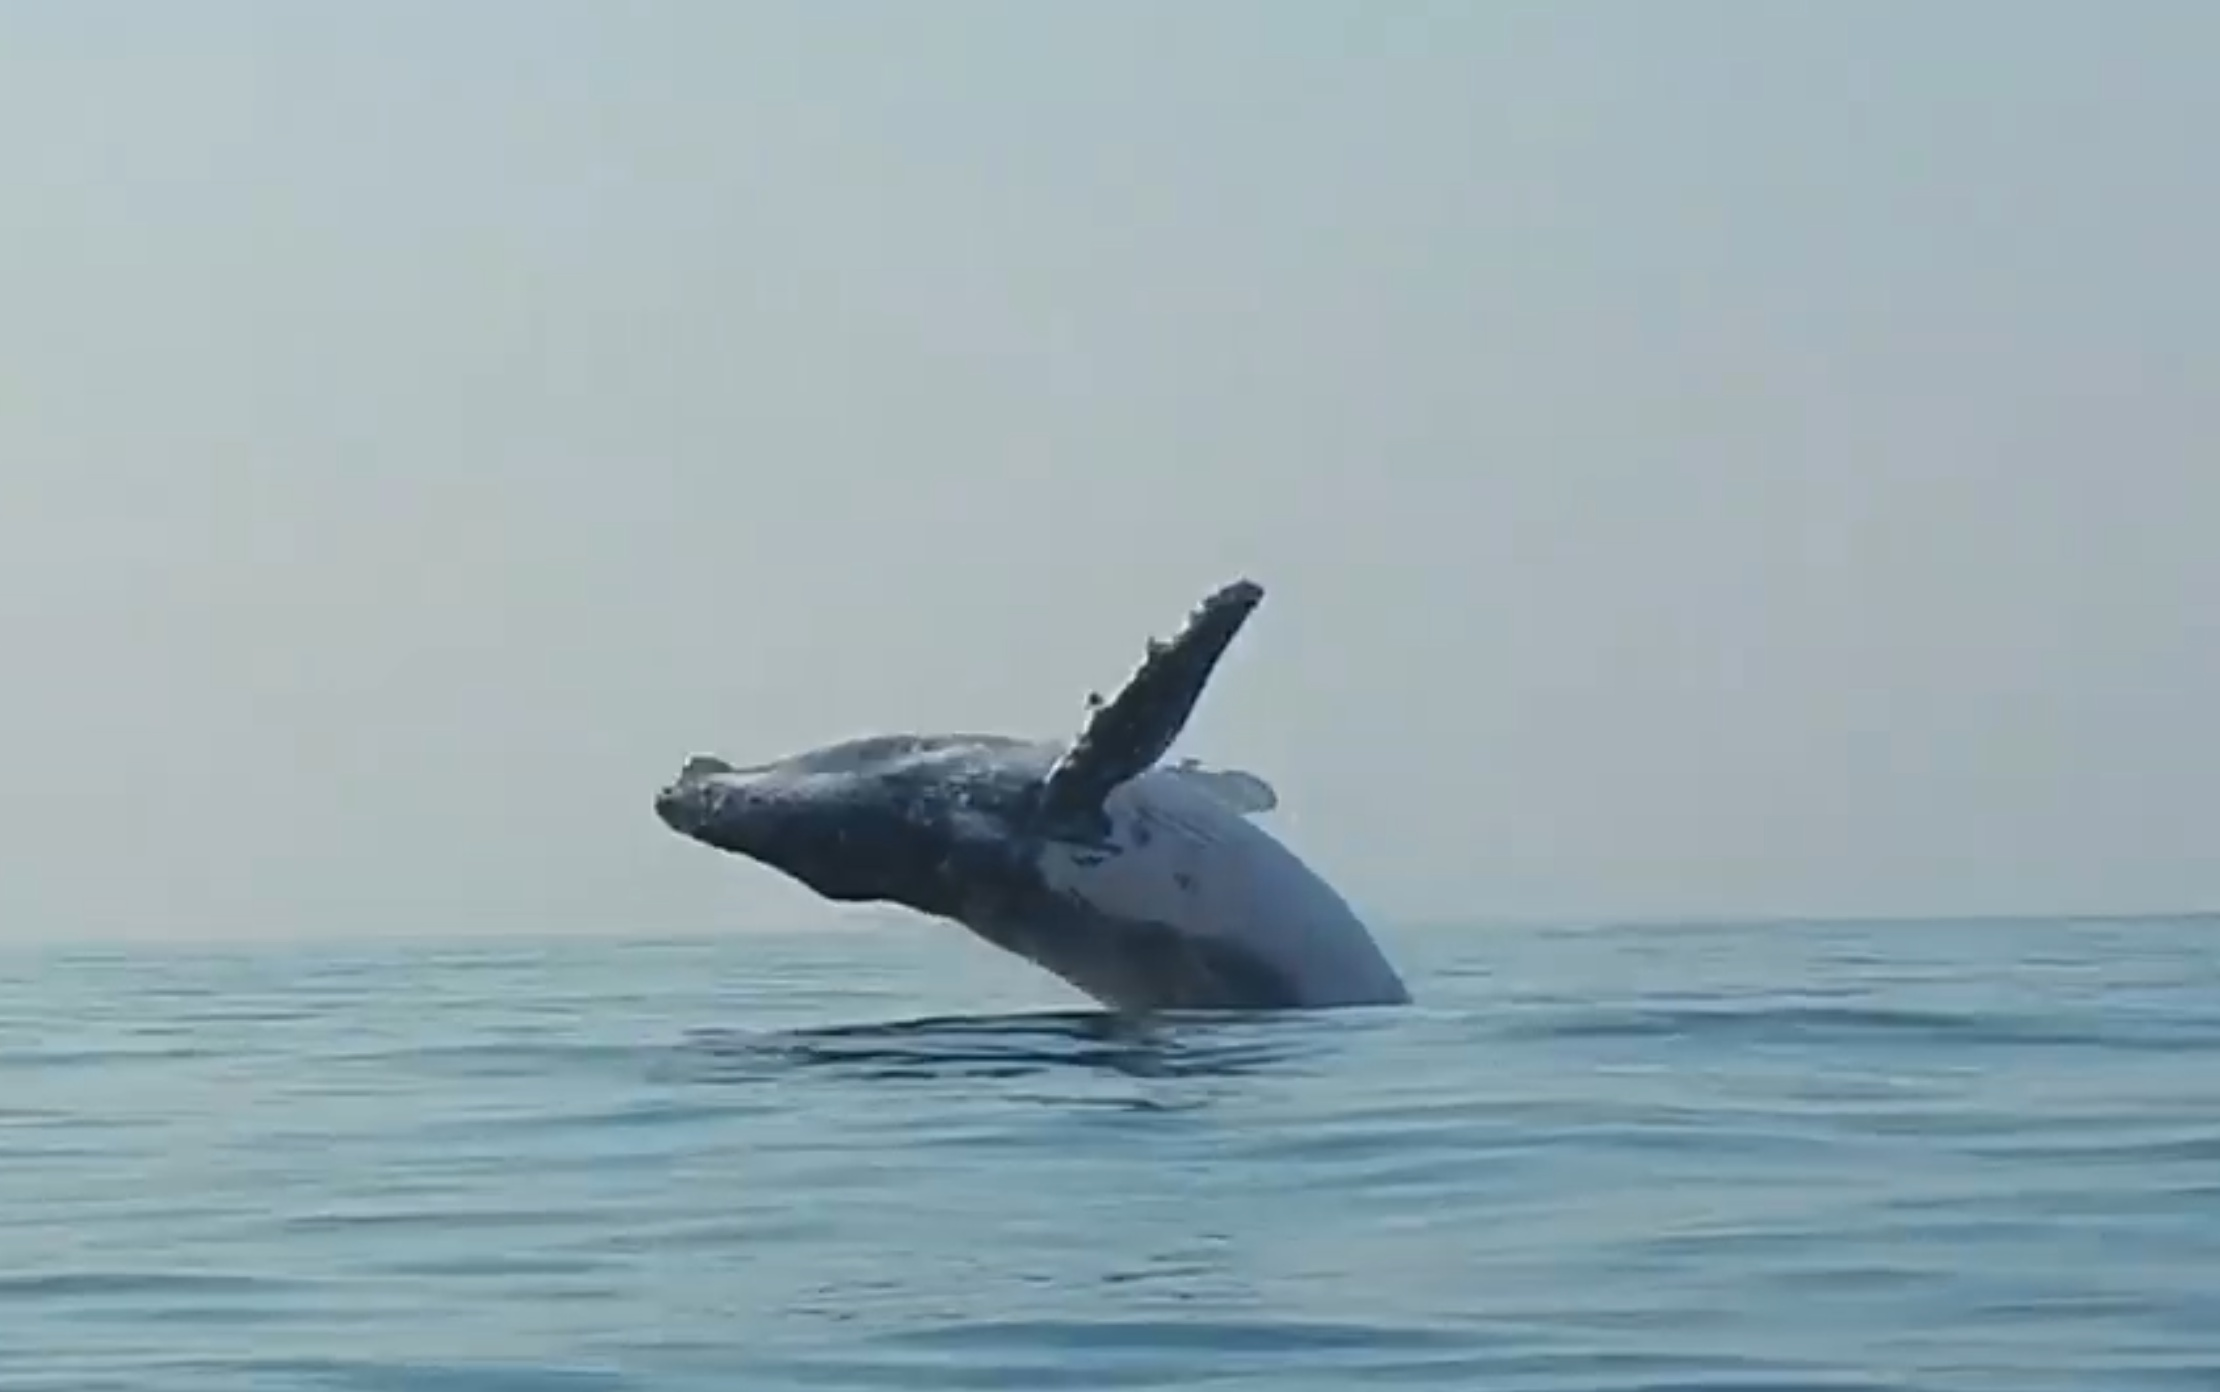humpback: (652, 743, 1420, 1009)
